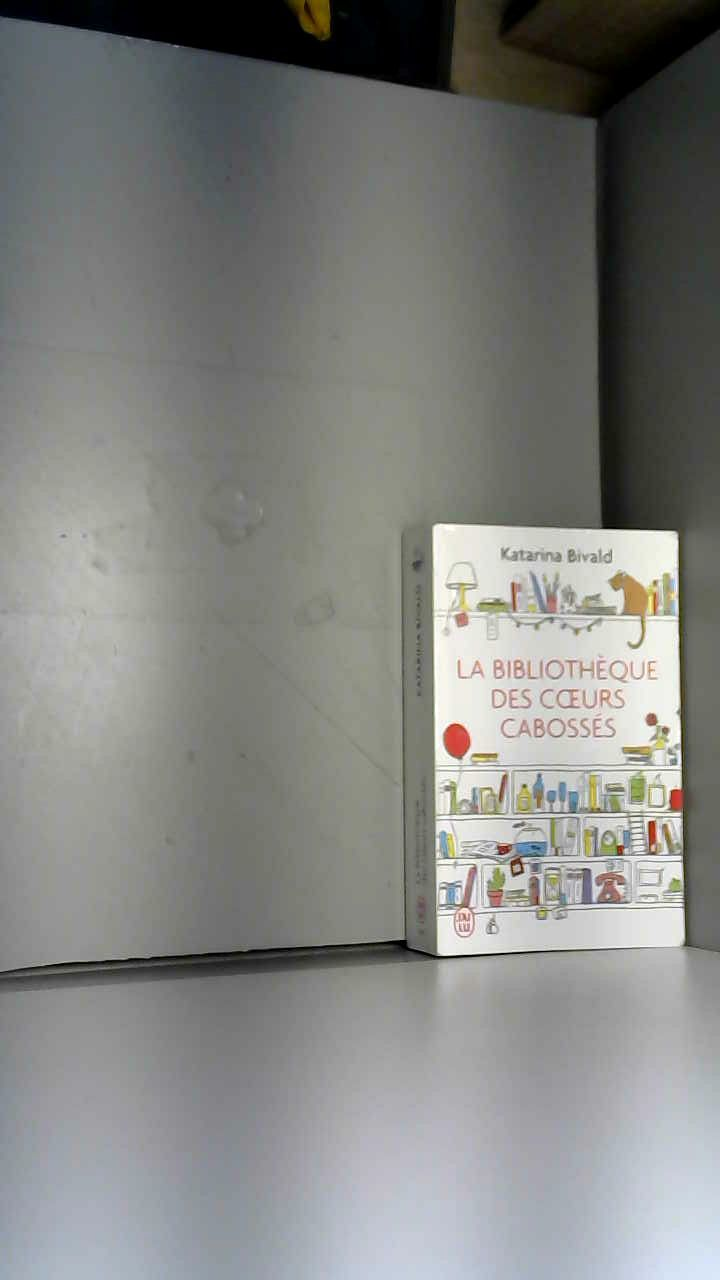book: (370, 479, 720, 996)
